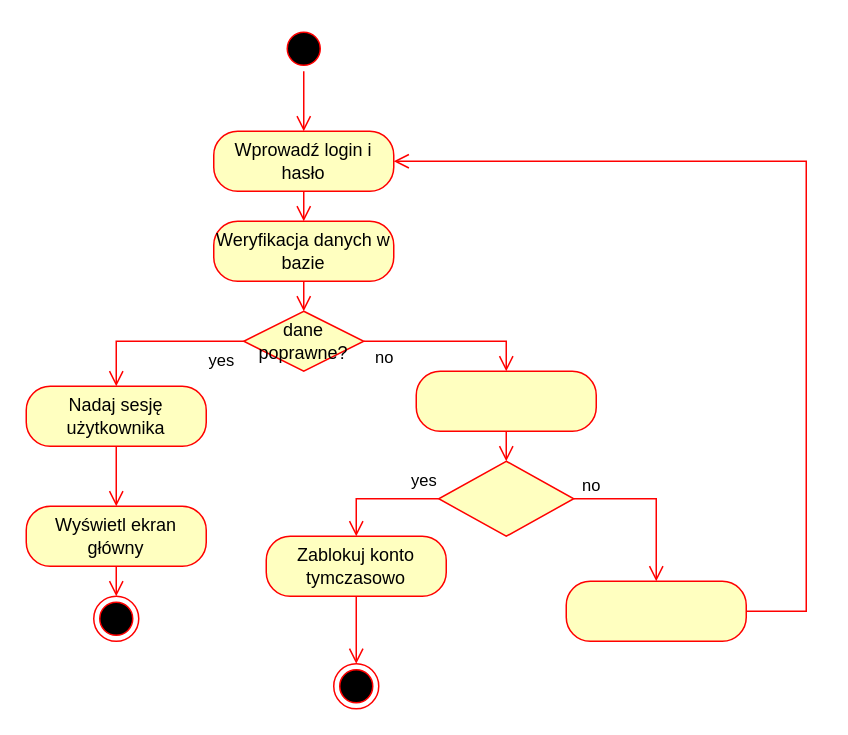
Some shapes in this 848 by 735 pixel diagram are drawn without their labels. The shapes that lost their labels are listed below. From the top down, each one's centre as x and y in pixels, then its label:
(505,400): Wyświetl błąd "Nieprawidłowe dane"
(505,498): przekroczono limit prób?
(655,610): Wyczyść pole hasła
